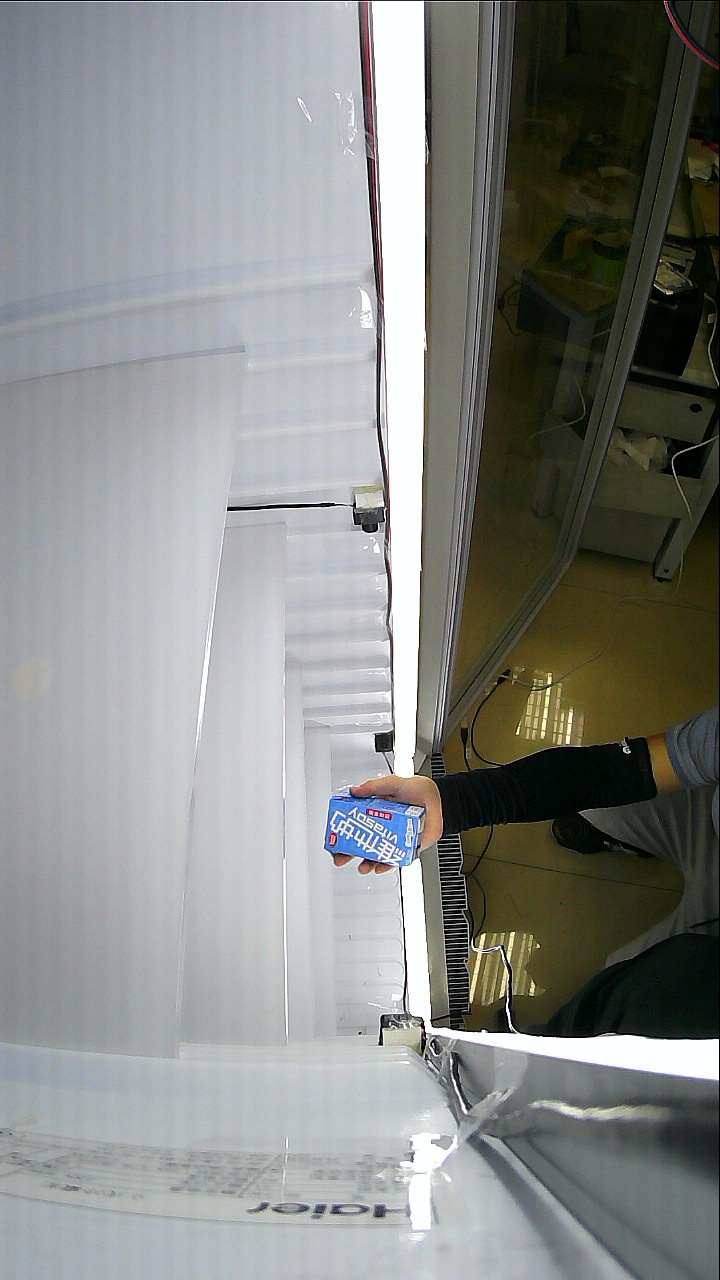VitaSoyOriginal: (329, 778, 472, 876)
